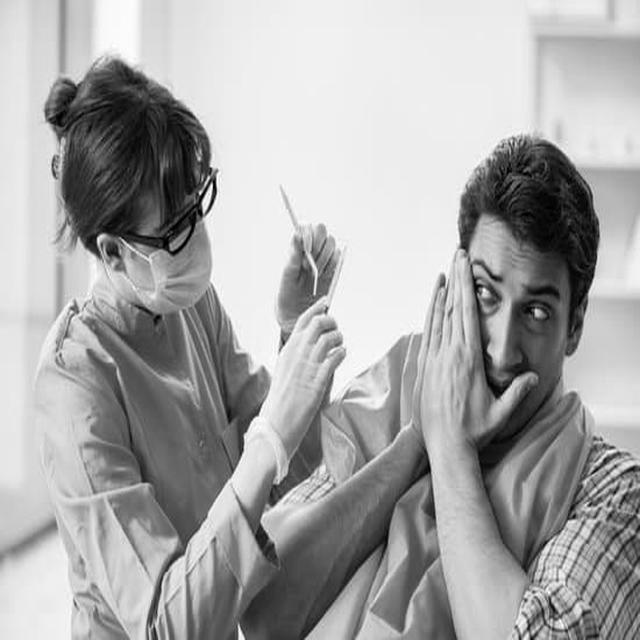Fear: (470, 220, 566, 420)
